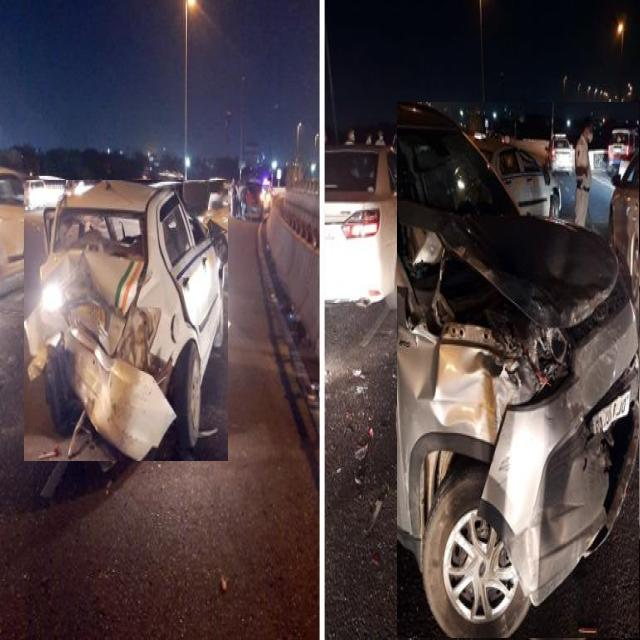accident: (398, 102, 639, 638), (25, 180, 228, 461)
car: (325, 147, 428, 308)
